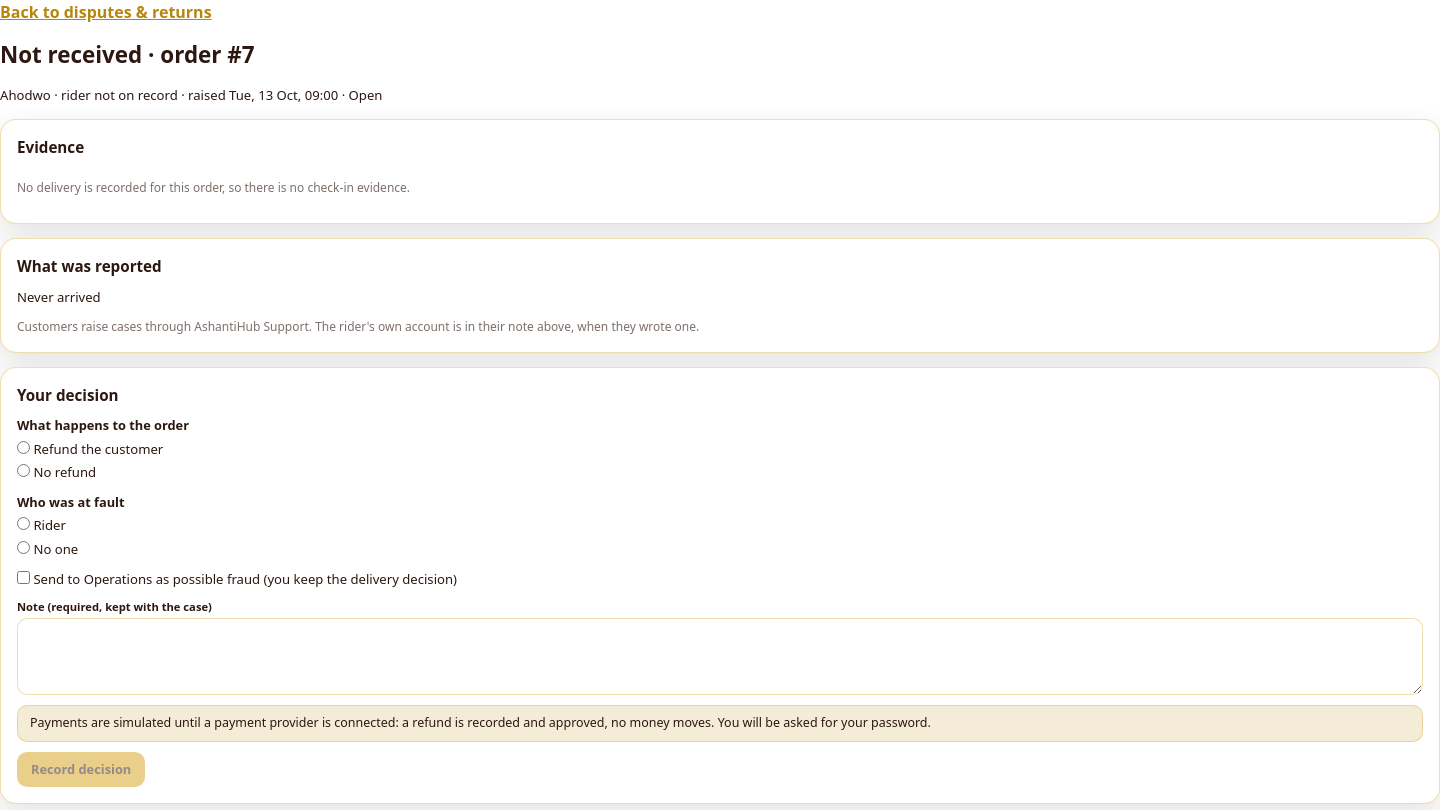
it: Wallet 5F: no-invention sweep › the delivery case DecisionForm
Expected: the heading "Your decision" is shown, top-left (17, 385), bottom-right (118, 405)
Click the radio button labelled "Refund the customer" at (24, 447), box top-left (17, 441), bottom-right (30, 454)
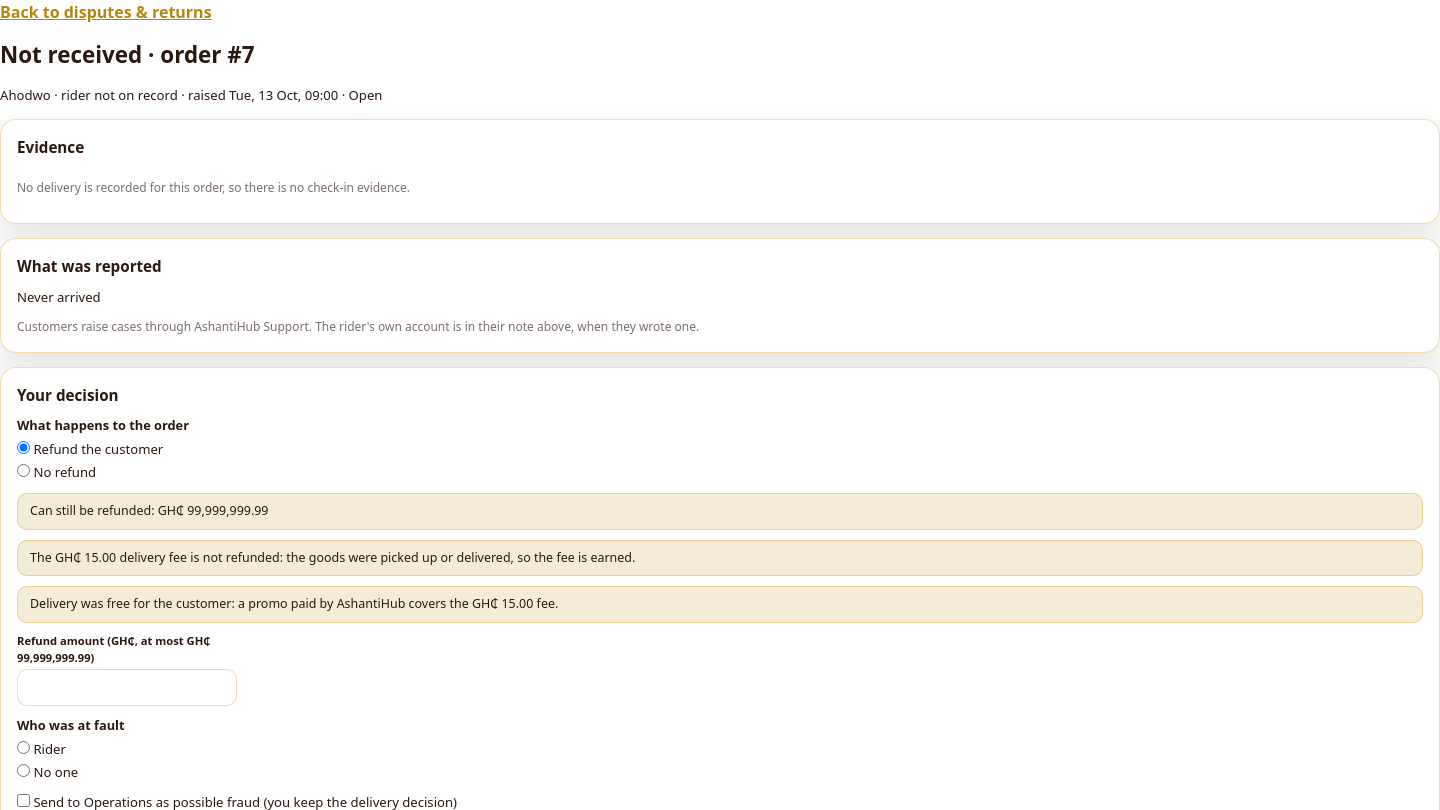
Result: the text "Can still be refunded: GH₵ 99,999,999.99" is shown at top-left (30, 502), bottom-right (268, 519)
